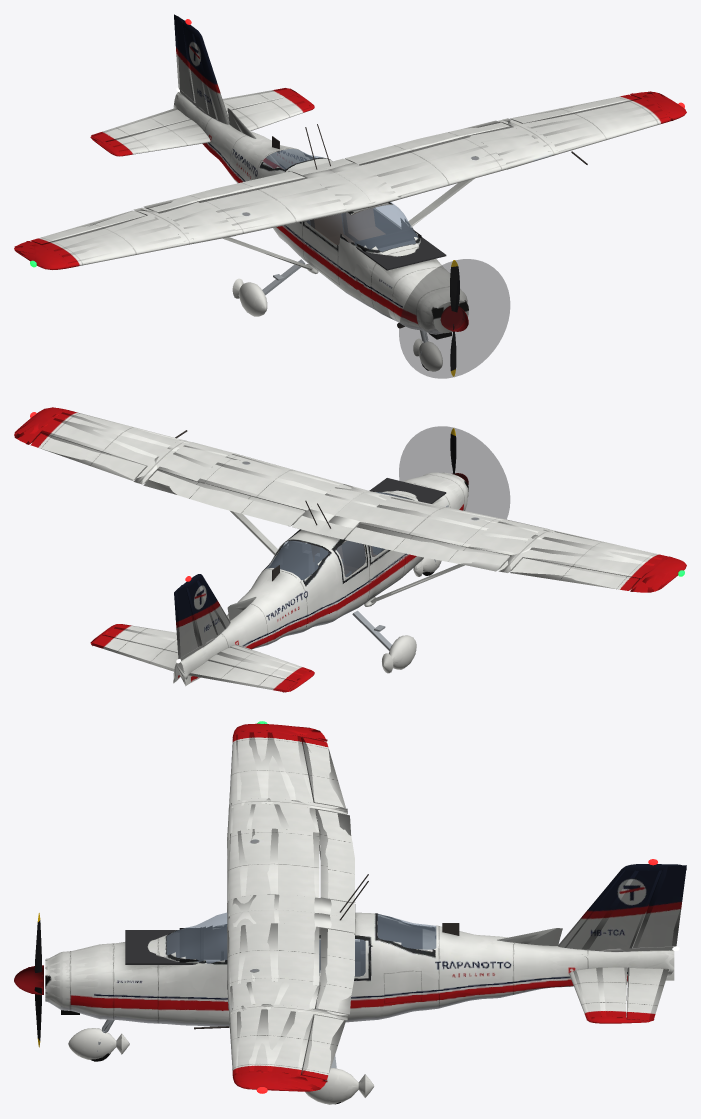
3 views of the same model, one above another, from view 1: azimuth 30°, elevation 25°; view 2: azimuth 150°, elevation 25°; view 3: azimuth 270°, elevation 25° (orthographic). The views are drawn at different scales.
Visible parts, largest first — view 1: Skin_LOD2_mesh, Wing_L_LOD0_mesh, Wing_R_LOD0_mesh, Fuselage_LOD1_mesh, PropDisc_LOD0_mesh, Glass_LOD1_mesh, HStab_LOD0_mesh, Cockpit_LOD0_mesh, Fin_LOD0_mesh, Glass_LOD0_mesh, Cabin_LOD0_mesh, Fuselage_LOD0_mesh (+11 smaller); view 2: Skin_LOD2_mesh, Wing_L_LOD0_mesh, Wing_R_LOD0_mesh, Fuselage_LOD1_mesh, PropDisc_LOD0_mesh, HStab_LOD0_mesh, Flap_L_LOD0_mesh, Cabin_LOD0_mesh, Flap_R_LOD0_mesh, Glass_LOD1_mesh, Fuselage_LOD0_mesh, Fin_LOD0_mesh (+9 smaller); view 3: Skin_LOD2_mesh, Fuselage_LOD1_mesh, Wing_R_LOD0_mesh, Wing_L_LOD0_mesh, Fin_LOD0_mesh, Fuselage_LOD0_mesh, Cabin_LOD0_mesh, Glass_LOD1_mesh, HStab_LOD0_mesh, Glass_LOD0_mesh, Flap_R_LOD0_mesh, Rudder_LOD0_mesh (+8 smaller).
Part boxes in pixels (x1,y1,x2,y2): Skin_LOD2_mesh: (14,14,685,334); Wing_L_LOD0_mesh: (317,92,686,206); Wing_R_LOD0_mesh: (14,165,372,269); Fuselage_LOD1_mesh: (173,92,468,334); PropDisc_LOD0_mesh: (399,259,509,377); Glass_LOD1_mesh: (264,149,416,251); HStab_LOD0_mesh: (91,88,313,156); Cockpit_LOD0_mesh: (310,208,421,251); Fin_LOD0_mesh: (176,15,229,124); Glass_LOD0_mesh: (264,149,415,250); Cabin_LOD0_mesh: (306,157,446,270); Fuselage_LOD0_mesh: (174,99,461,332); Skin_LOD2_mesh: (14,407,685,692); Wing_L_LOD0_mesh: (14,407,369,533); Wing_R_LOD0_mesh: (317,491,686,592); Fuselage_LOD1_mesh: (173,472,468,686); PropDisc_LOD0_mesh: (399,427,509,518); HStab_LOD0_mesh: (91,624,314,691); Flap_L_LOD0_mesh: (149,470,301,526); Cabin_LOD0_mesh: (268,478,446,579); Flap_R_LOD0_mesh: (345,527,509,570); Glass_LOD1_mesh: (266,492,406,579); Fuselage_LOD0_mesh: (173,474,468,685); Fin_LOD0_mesh: (176,574,230,660); Skin_LOD2_mesh: (14,723,686,1091); Fuselage_LOD1_mesh: (45,912,674,1026); Wing_R_LOD0_mesh: (227,723,354,918); Wing_L_LOD0_mesh: (227,910,354,1091); Fin_LOD0_mesh: (558,864,681,951); Fuselage_LOD0_mesh: (46,914,673,1022); Cabin_LOD0_mesh: (125,916,422,976); Glass_LOD1_mesh: (167,913,435,975); HStab_LOD0_mesh: (569,967,663,1023); Glass_LOD0_mesh: (167,913,435,975); Flap_R_LOD0_mesh: (316,810,354,902); Rudder_LOD0_mesh: (637,865,686,947).
Bounding box in the file's own units: 11.13 × 2.85 × 8.58.
Materials: 25 (1 with a texture image).
